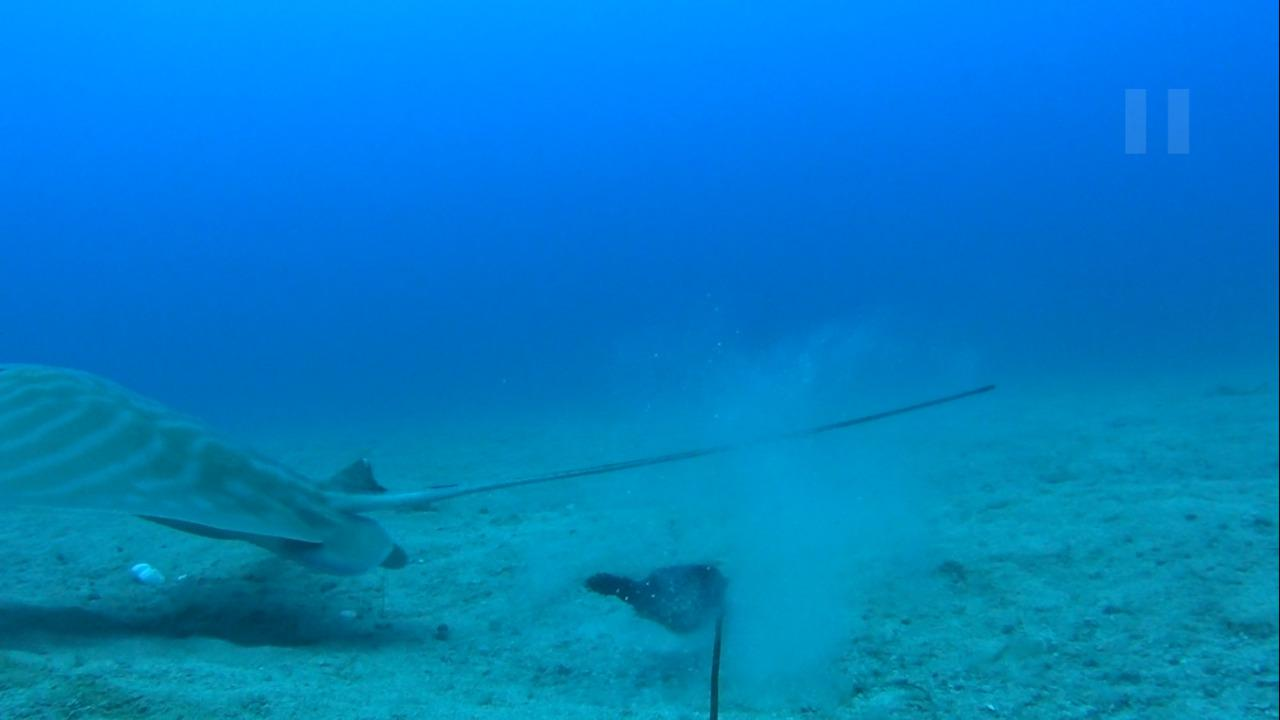myliobatis: (3, 358, 1001, 580)
